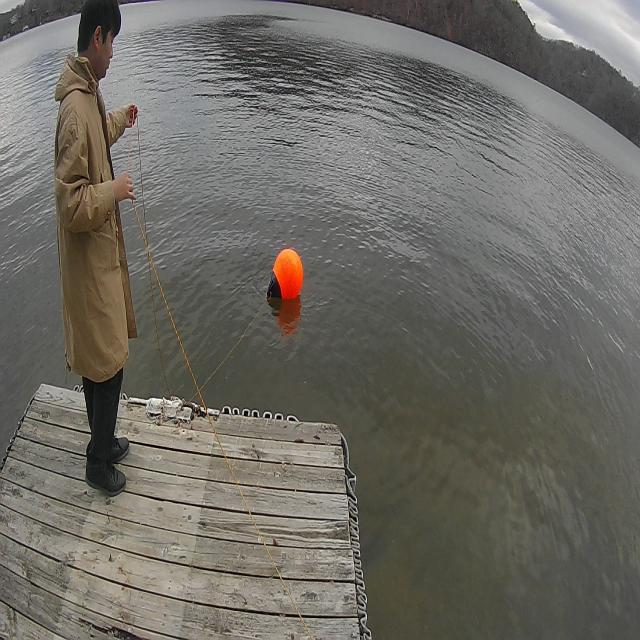Buoy: (265, 242, 306, 318)
